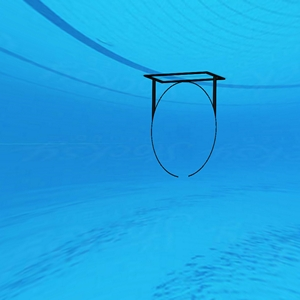circle: (141, 69, 227, 182)
